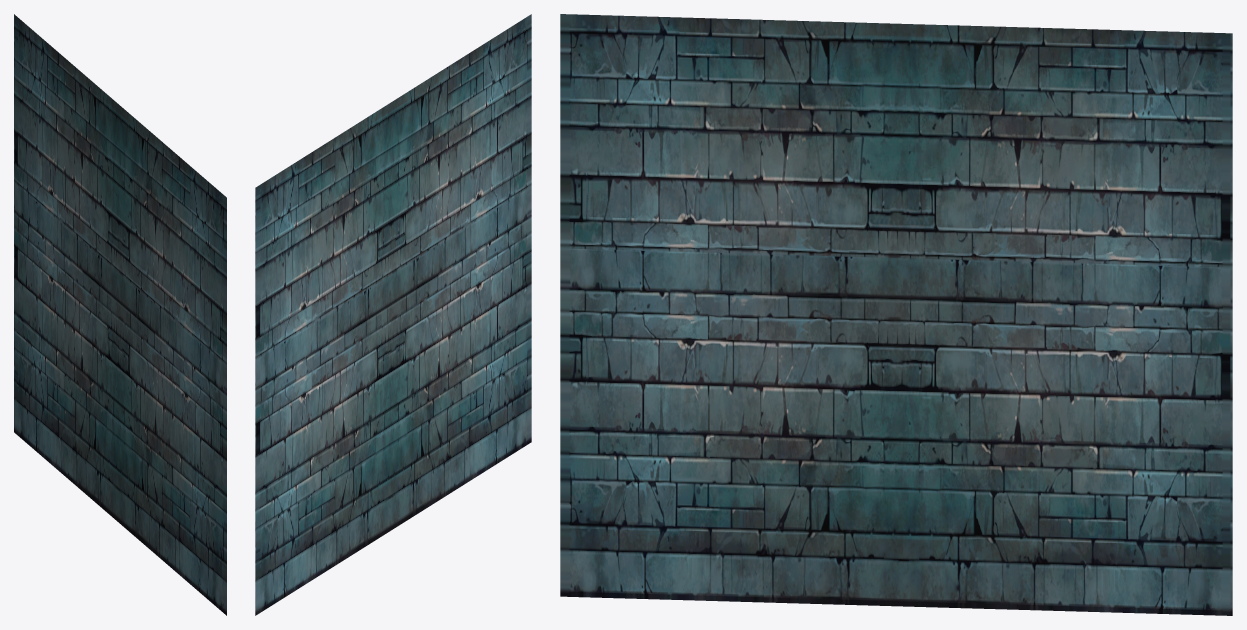
Rendered from Pared_Izquierda.fbx.
3 views of the same model, side by side, from view 1: azimuth 30°, elevation 25°; view 2: azimuth 150°, elevation 25°; view 3: azimuth 270°, elevation 25° (orthographic). The views are drawn at different scales.
Parts seen in each view (by area): view 1: Plane.008; view 2: Plane.008; view 3: Plane.008.
Part boxes in pixels (x1,y1,x2,y2): Plane.008: (14,14,226,615); Plane.008: (255,14,531,615); Plane.008: (560,14,1232,615).
Bounding box in the file's own units: 159 × 2237 × 2340.
1 material, 1 textured.
